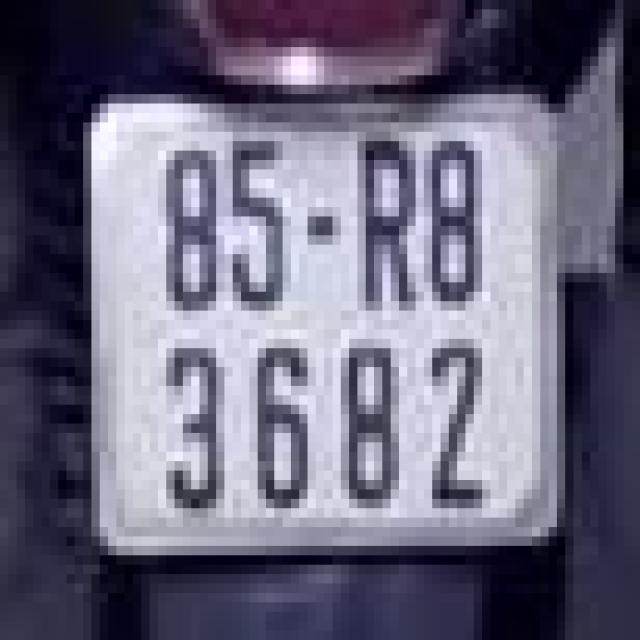2: (420, 330, 494, 518)
3: (162, 338, 229, 518)
5: (228, 122, 286, 320)
6: (241, 330, 316, 518)
8: (332, 325, 408, 513), (420, 127, 486, 315), (158, 141, 224, 320)
R: (349, 132, 432, 320)
